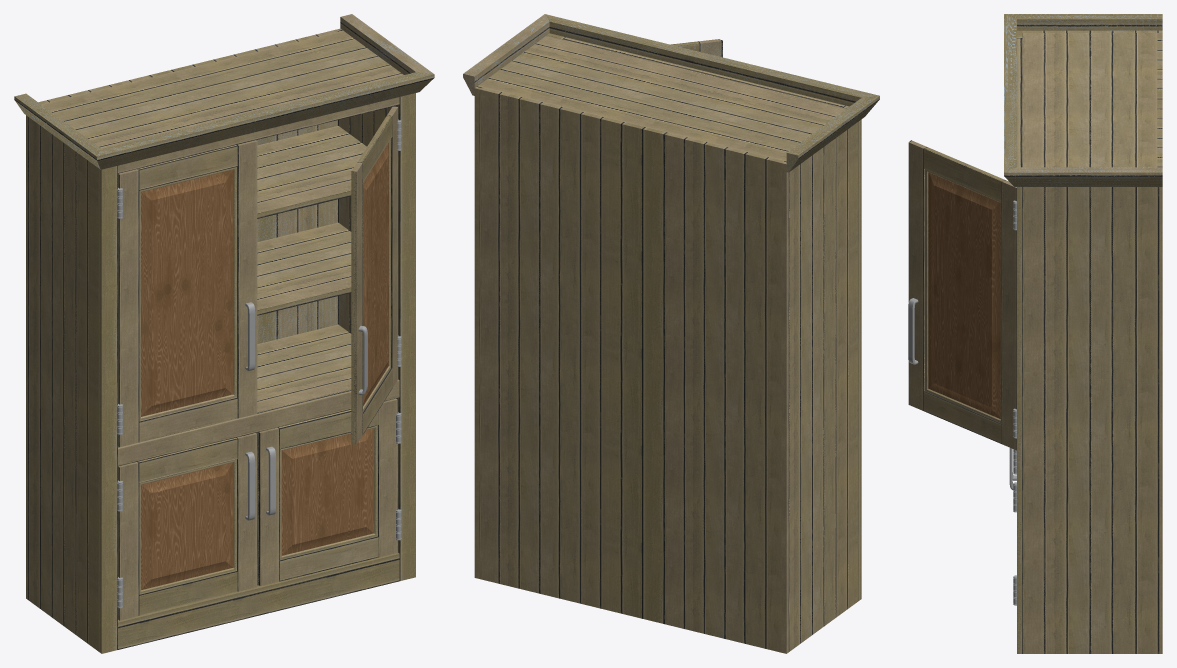
File: cabinet00.dae
3 views of the same model, side by side, from view 1: azimuth 30°, elevation 25°; view 2: azimuth 150°, elevation 25°; view 3: azimuth 270°, elevation 25° (orthographic). The views are drawn at different scales.
Parts seen in each view (by area): view 1: group_0 (×2), instance_31 (×2), instance_29 (×2), instance_30 (×2), instance_27 (×2), SketchUp, group_13, group_2, group_1; view 2: group_0, SketchUp; view 3: group_0, instance_27 (×2), SketchUp, instance_28.
Boxes of the visible parts, box(x1,y1,x2,y2) form: group_0 (×2): box(26, 28, 415, 653); instance_31 (×2): box(118, 140, 257, 447); instance_29 (×2): box(118, 432, 257, 620); instance_30 (×2): box(257, 398, 398, 586); instance_27 (×2): box(351, 106, 398, 444); SketchUp: box(14, 14, 434, 169); group_13: box(257, 126, 366, 218); group_2: box(257, 222, 351, 315); group_1: box(257, 324, 351, 412); group_0: box(474, 33, 861, 653); SketchUp: box(463, 14, 879, 172); group_0: box(1017, 30, 1162, 653); instance_27 (×2): box(908, 140, 1016, 450); SketchUp: box(1004, 14, 1162, 186); instance_28: box(908, 298, 918, 364).
Size of the model in its own units: 51.56 by 34.94 by 73.71.
